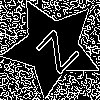Z: (27, 22, 81, 75)
